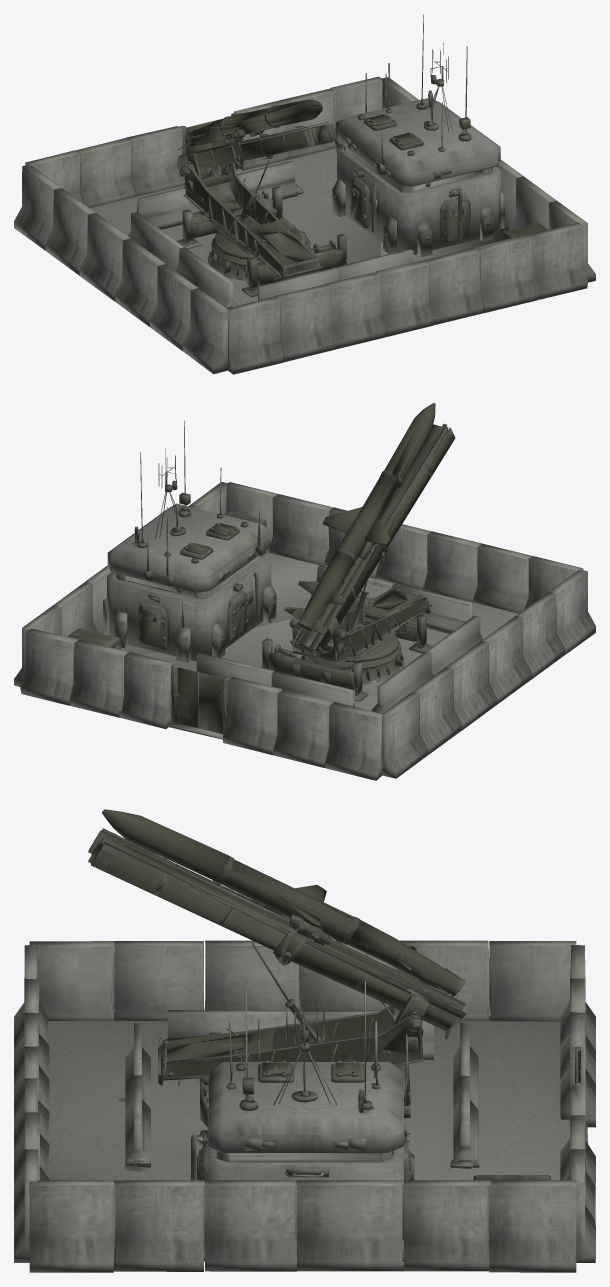
Rendered from strategic_command.glb.
3 views of the same model, one above another, from view 1: azimuth 30°, elevation 25°; view 2: azimuth 150°, elevation 25°; view 3: azimuth 270°, elevation 25° (orthographic). The views are drawn at different scales.
Visible parts, largest first — view 1: hull; view 2: hull; view 3: hull.
Part boxes in pixels (bbox=[...]): hull: bbox=[14, 14, 595, 374]; hull: bbox=[14, 403, 595, 780]; hull: bbox=[14, 809, 595, 1272].
Bounding box in the file's own units: 19.2 × 10.42 × 18.49.
3 materials, 3 textured.
